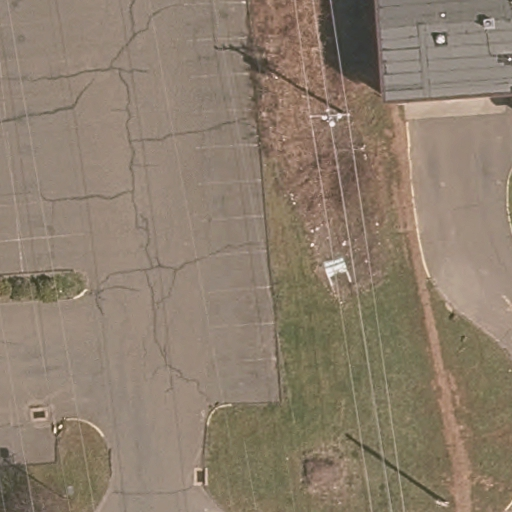DT: (301, 95, 357, 134)
